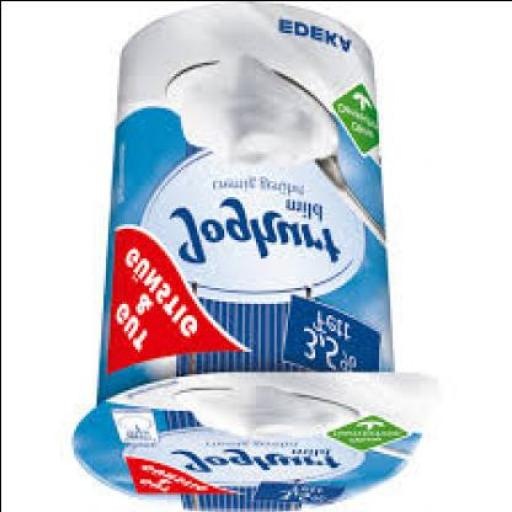plastic: (68, 6, 434, 511)
